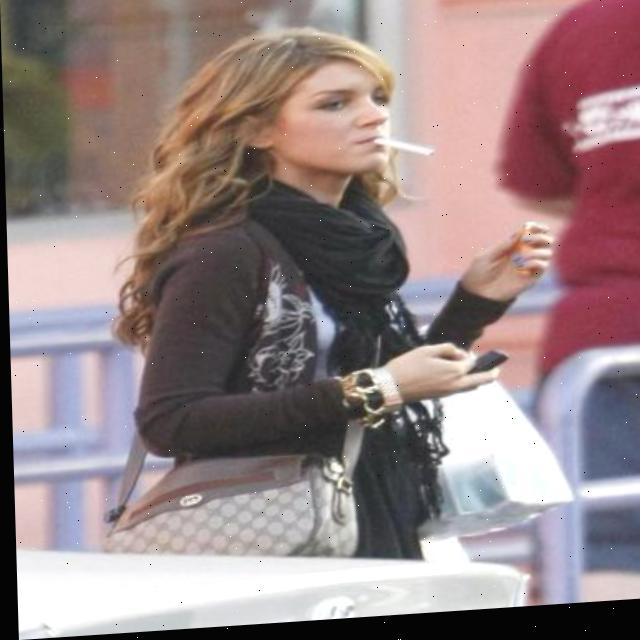cigarette: (374, 137, 438, 167)
